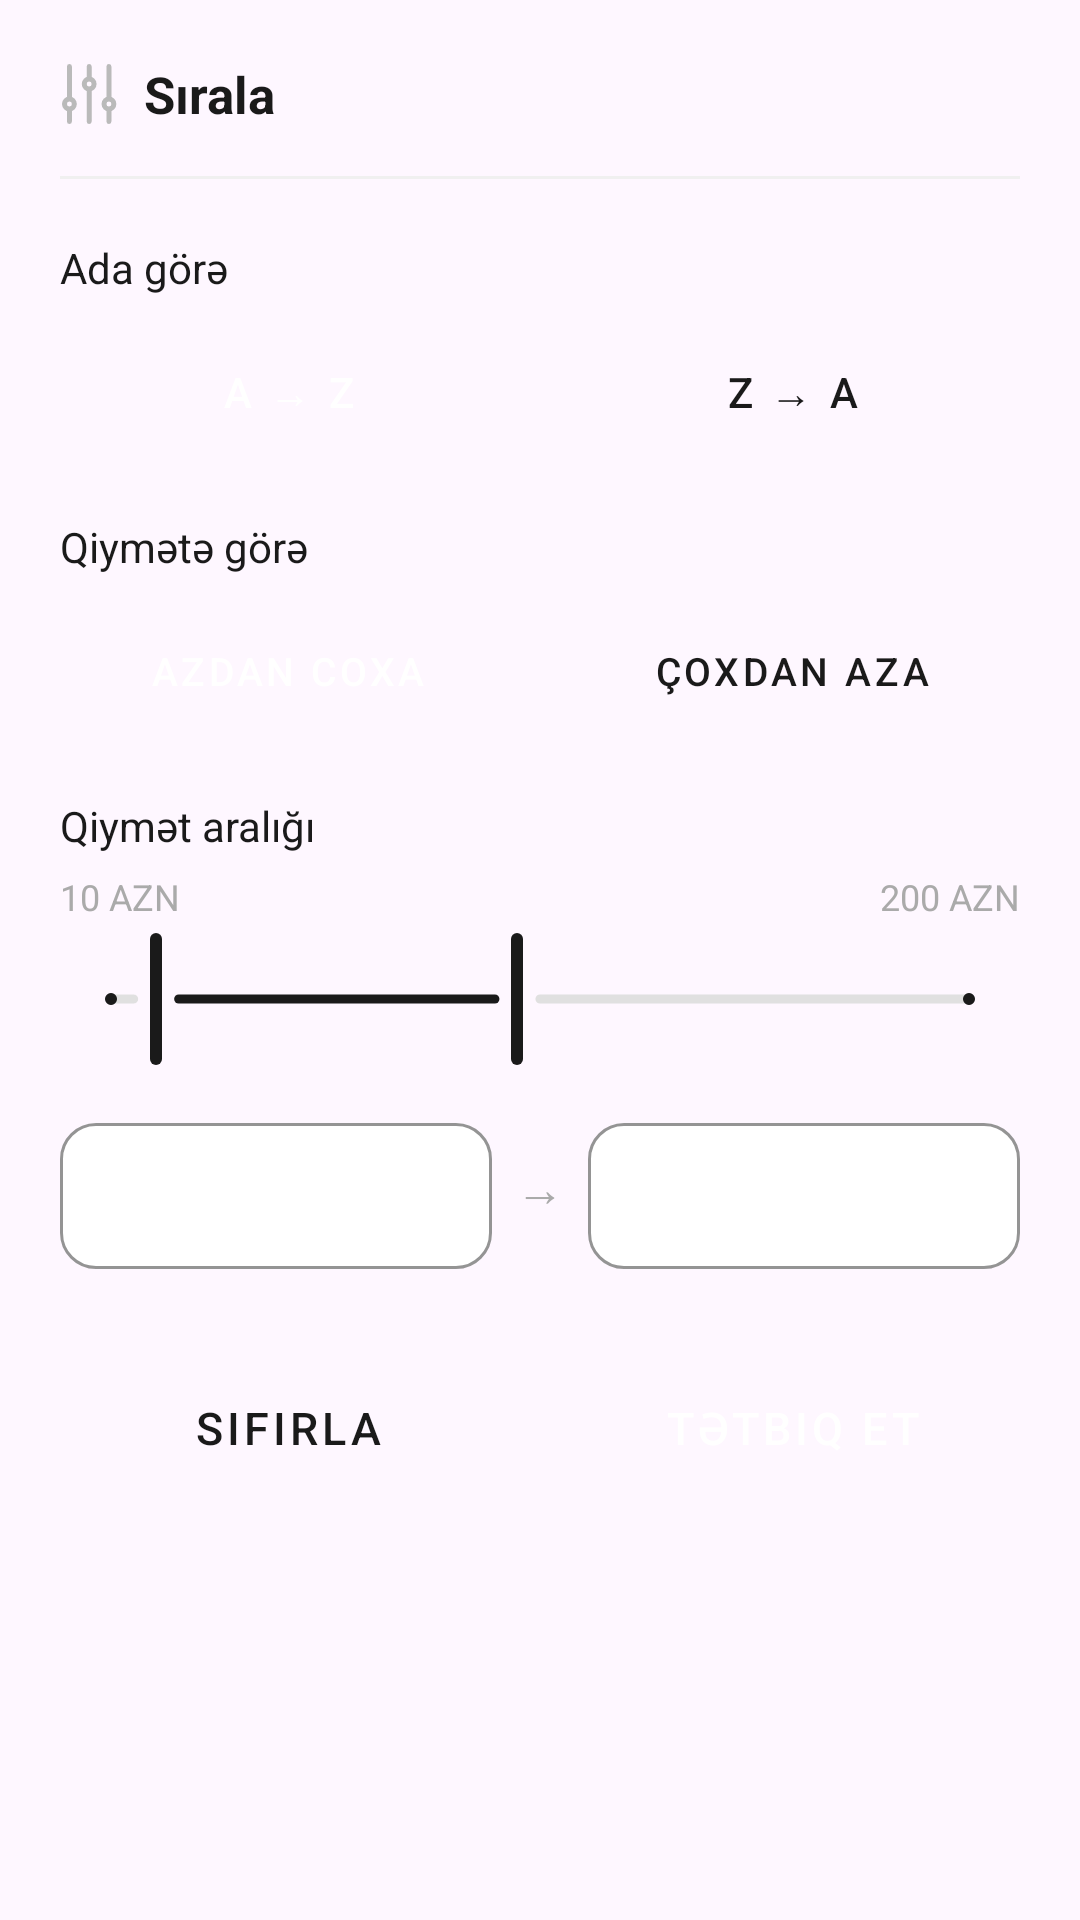

Screen size 1080×1920. Icon name, then its center in pixels as point (x, y):
Filter: point (89, 94)
